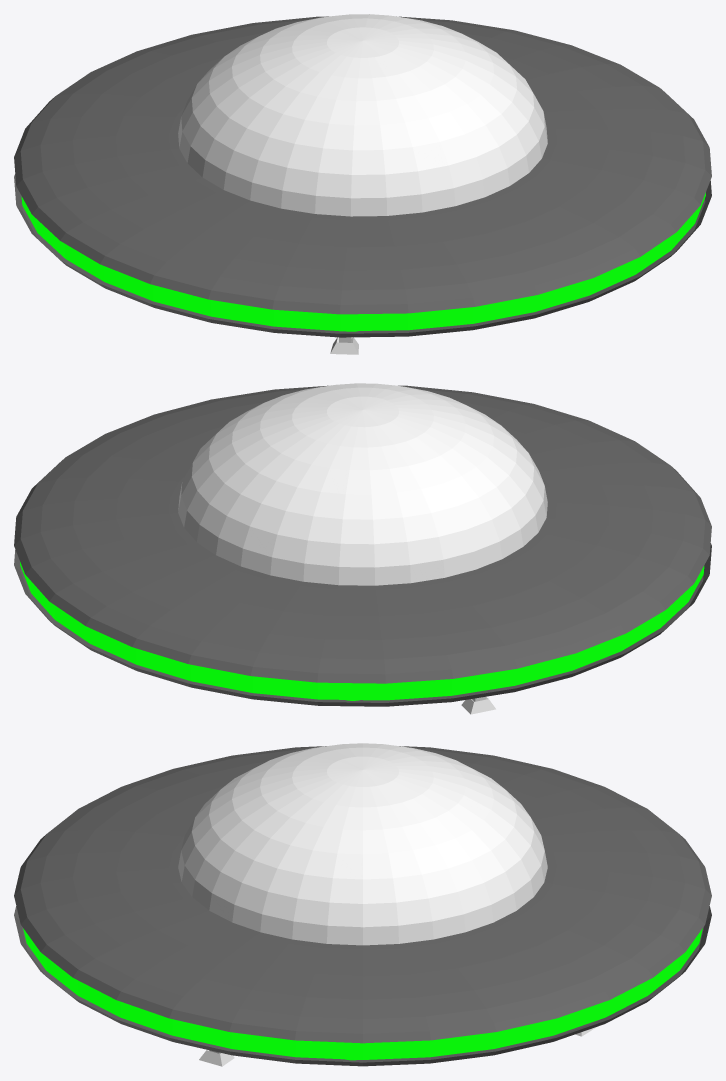
The model's file is ship.glb.
The picture shows the model from 3 angles, top to bottom: view 1: azimuth 30°, elevation 25°; view 2: azimuth 150°, elevation 25°; view 3: azimuth 270°, elevation 25°; orthographic projection.
Visible parts, largest first — view 1: ship, Sphere.001, sidelight; view 2: ship, Sphere.001, sidelight; view 3: ship, Sphere.001, sidelight.
Boxes of the visible parts, x1,y1,x2,y2 form: ship: (14,16,711,337); Sphere.001: (178,14,547,216); sidelight: (21,192,705,331); ship: (14,385,711,706); Sphere.001: (178,383,547,585); sidelight: (20,562,704,700); ship: (14,746,711,1066); Sphere.001: (178,743,547,945); sidelight: (23,928,702,1059).
Size of the model in its own units: 12 by 3.76 by 12.
